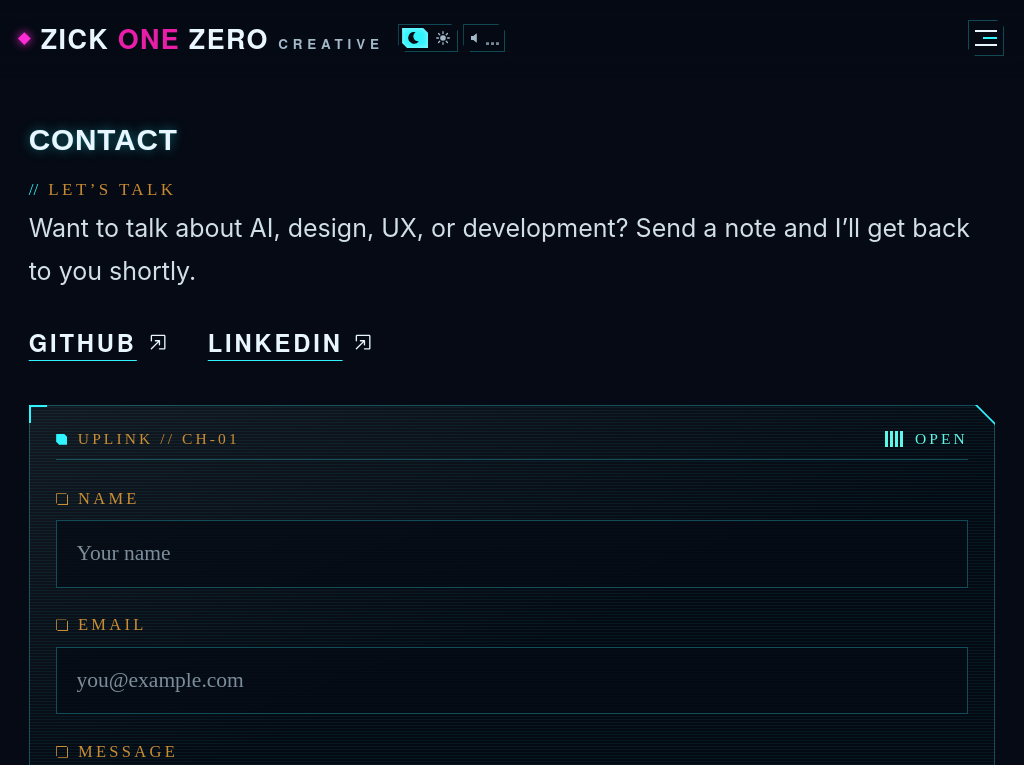
Test case: ContactContent › posts the submission and shows the success state
Type "Jane Doe" into the field labelled "Name" at (512, 554), box [56,520,968,588]
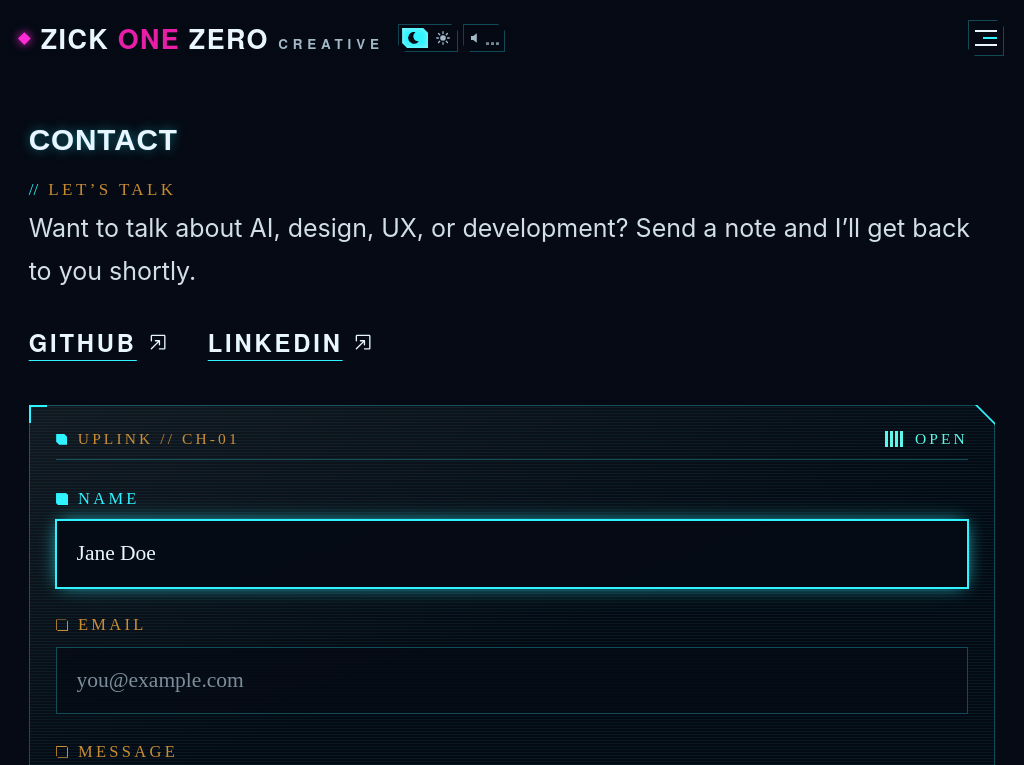
Type "jane@example.com" into the field labelled "Email" at (512, 680), box [56,647,968,714]
(page scrolled)
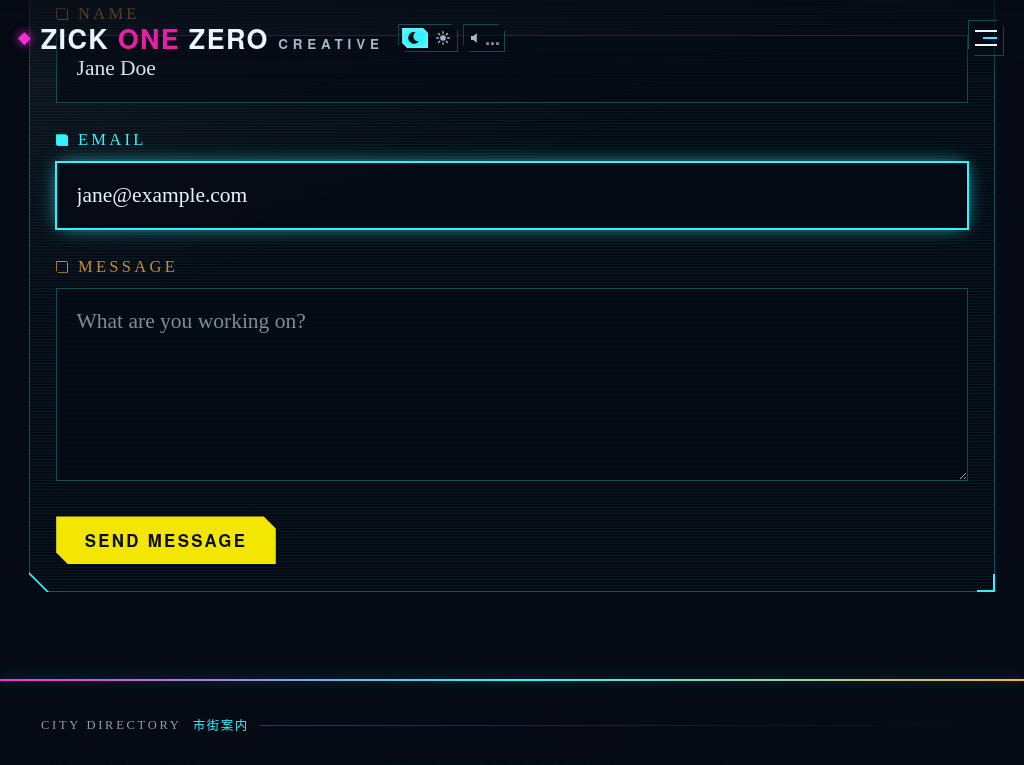
Type "Hello from the test suite." into the text box labelled "Message" at (512, 385), box [56,288,968,482]
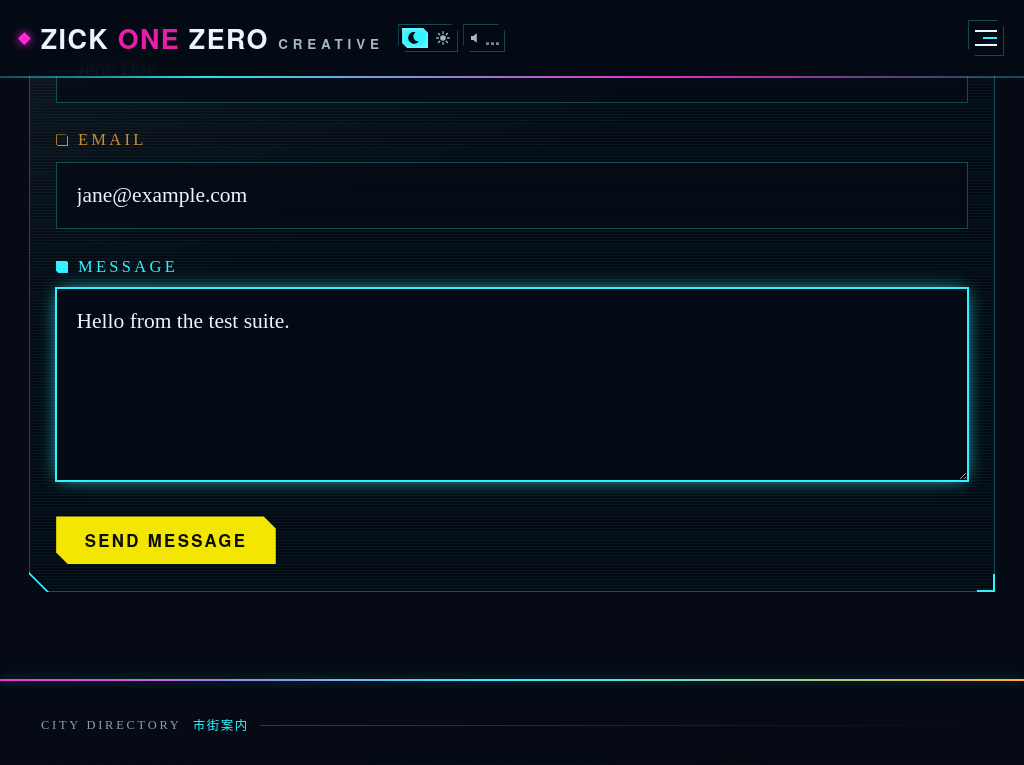
Click the button "Send message" at (166, 540), box [56,516,276,564]
(page scrolled)
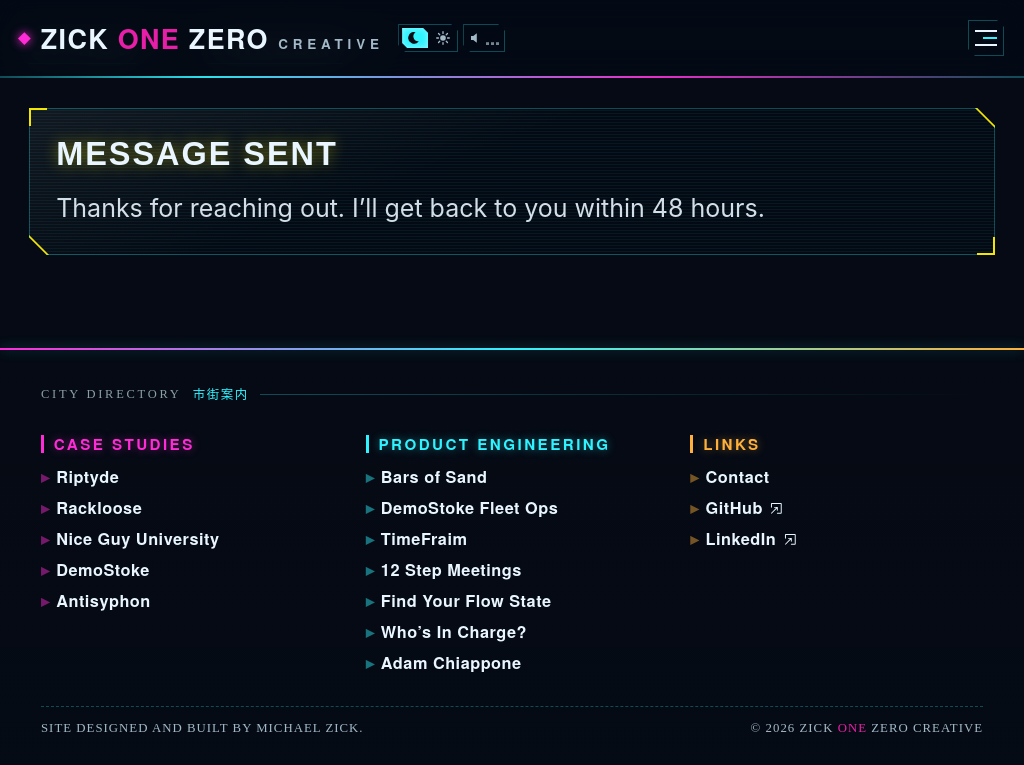
Result: the message shows "Message sent" at [56,136,338,172]
